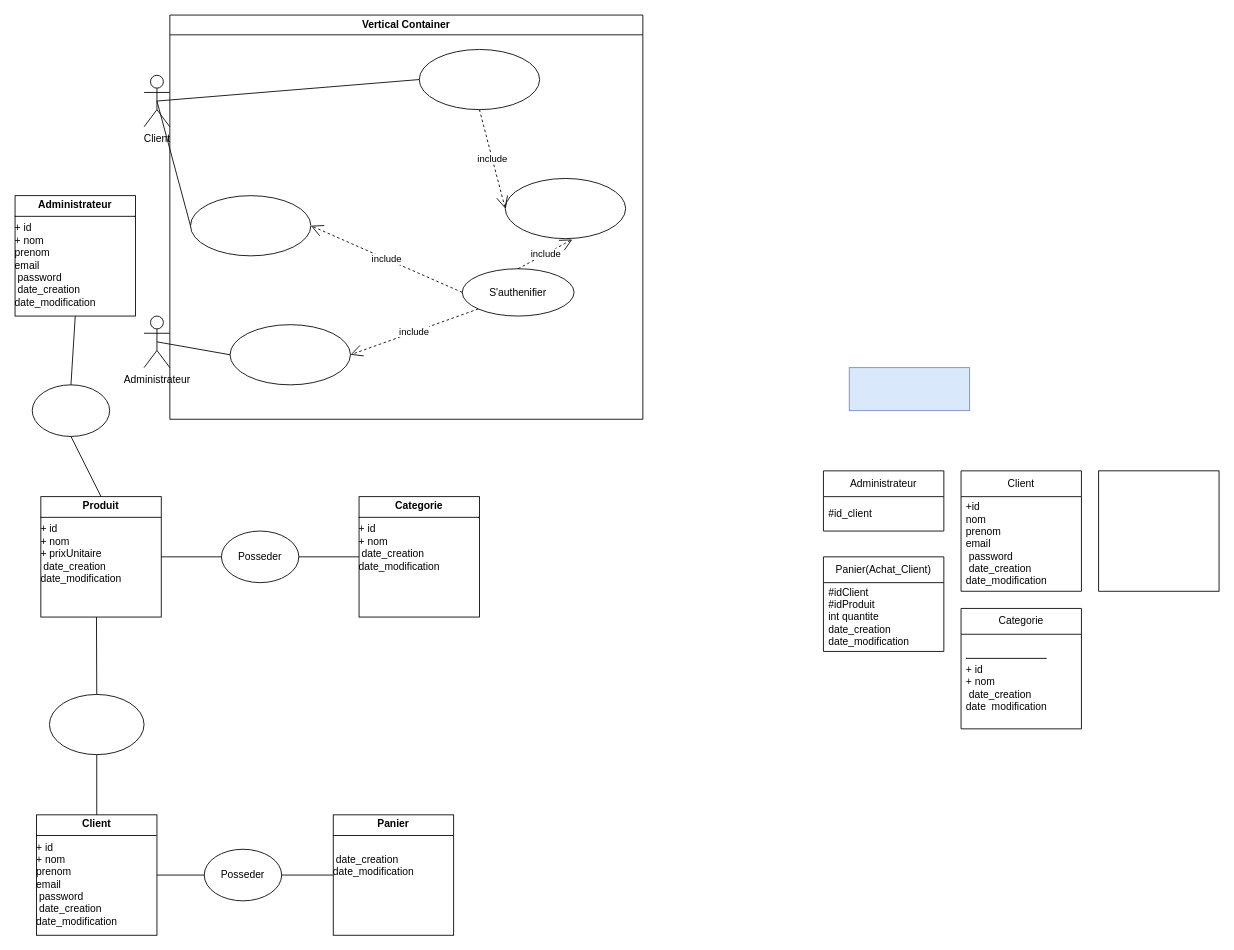
Some shapes in this 1234 by 950 pixel diagram are drawn without their labels. The centre of each missing label's shape, as x and y in pixels:
"Acheter" belongs at point (96, 724).
"Creer" belongs at point (70, 410).
"CRUD produi dans panier" belongs at point (250, 225).
"CRUD produits" belongs at point (289, 354).
"Modele logique de données:" belongs at point (909, 389).
"Produit + id #idCathegorie + nom + prixUnitaire date_creation date_modification" belongs at point (1158, 530).
"Rechercher un produit" belongs at point (479, 79).
"Voir la liste des produits" belongs at point (565, 208).
